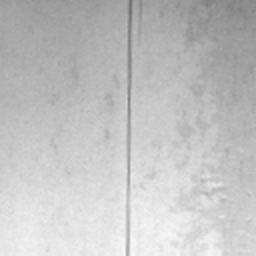Scratches: (125, 0, 132, 256)
